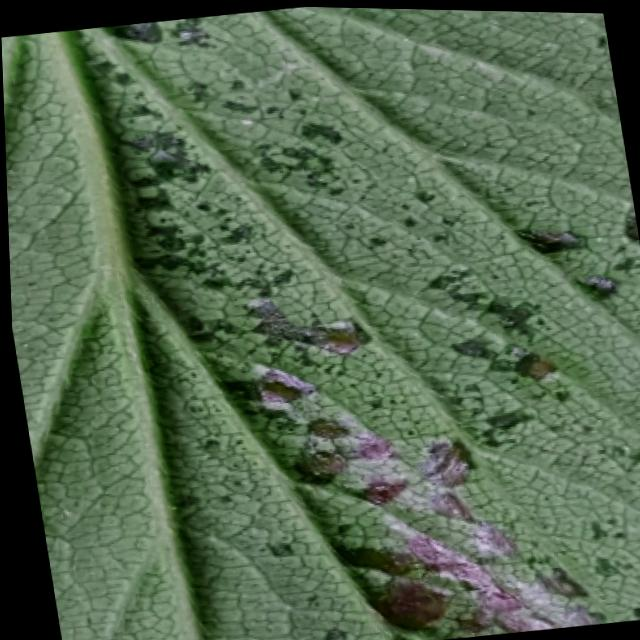Angular Leafspot: (57, 5, 640, 640)
